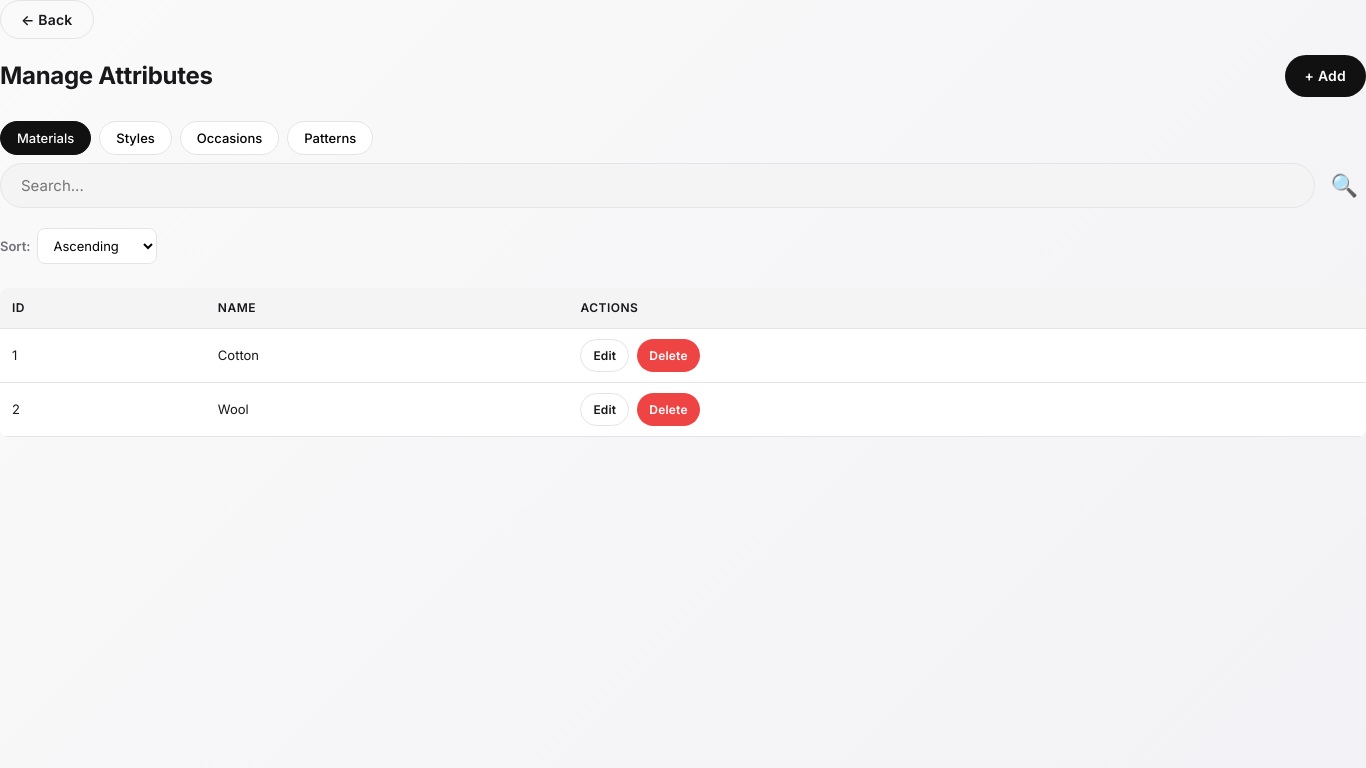
Test: AdminAttributes › Delete › should show confirmation modal when delete clicked
The image size is (1366, 768).
Click the button "Delete" in the row of "Cotton": click(668, 355) [637, 339, 700, 372]
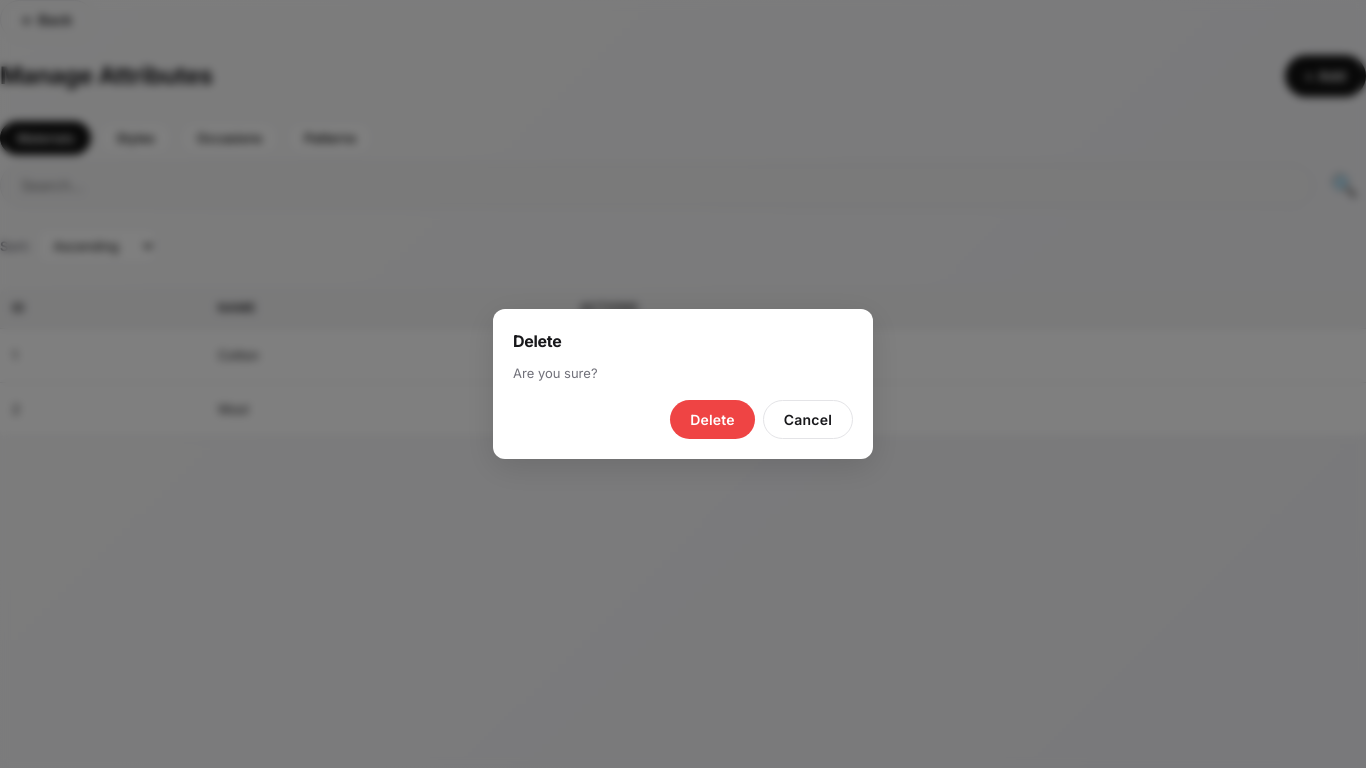
Expected: the text "Are you sure?" is shown, [513, 365, 598, 381]
